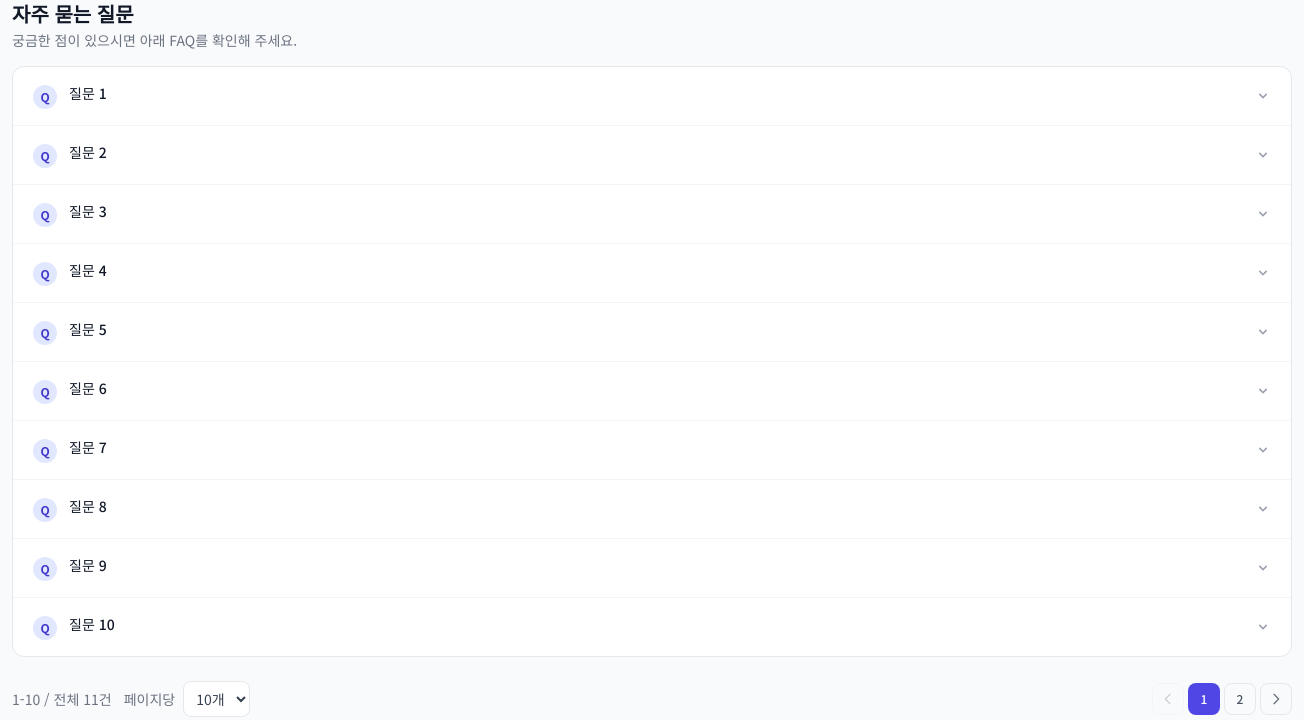
it: UserFaqPage 페이지네이션 › FAQ를 기본 열 개씩 표시하고 열린 항목 상태를 유지하며 다음 페이지로 이동한다
Check: the button "Q 질문 10" is shown, box [13,598,1291,656]
Check: the button "질문 11" is not shown
Click the button "Q 질문 1" at coordinates (88, 93), box [13,67,1291,125]
(page scrolled)
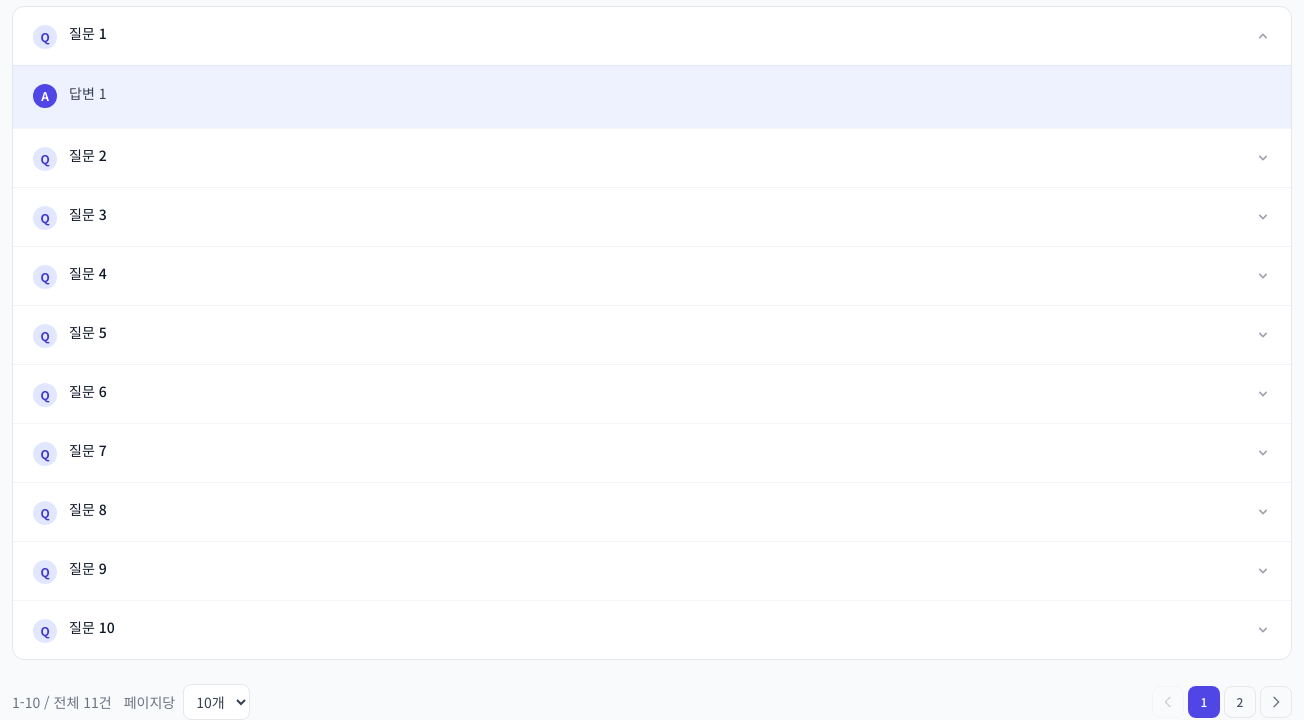
Check: the text "답변 1" is shown, box [69,82,106,105]
Click the button named "다음 페이지" at coordinates (1276, 702), box [1260,686,1292,718]
(page scrolled)
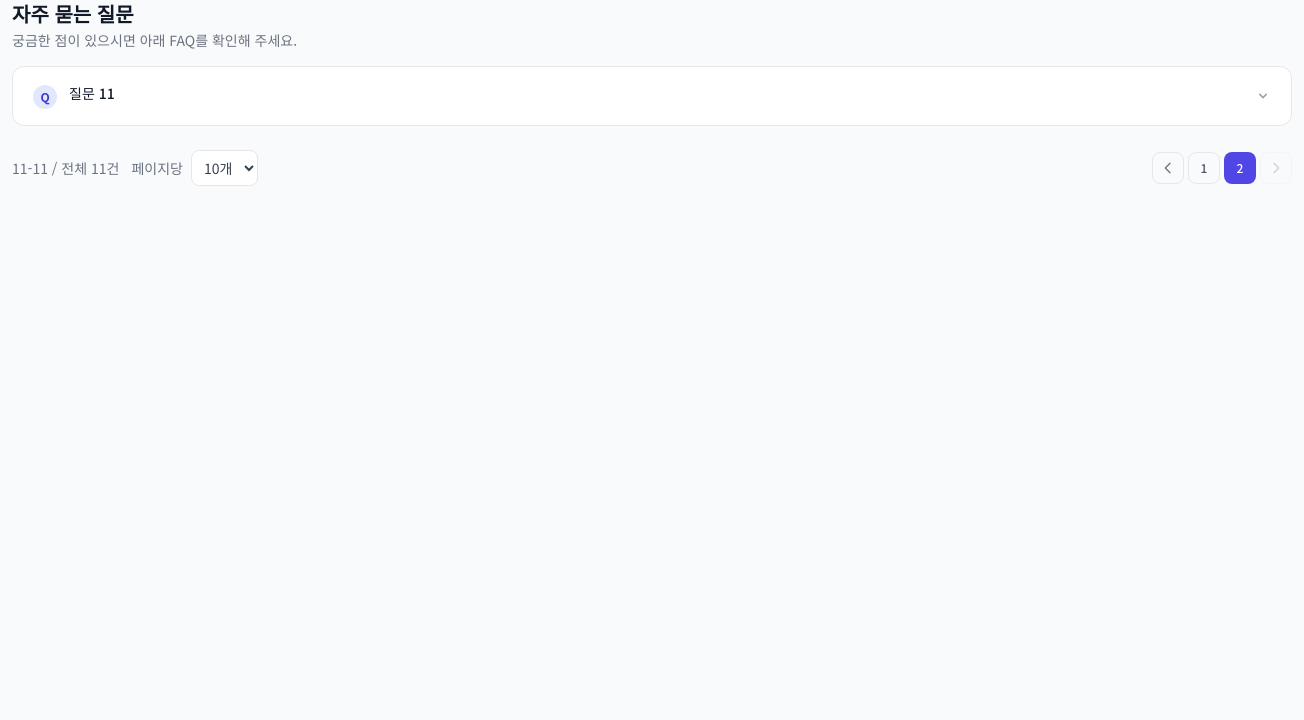
Check: the button "Q 질문 11" is shown, box [13,67,1291,125]
Check: the text "답변 1" is gone
